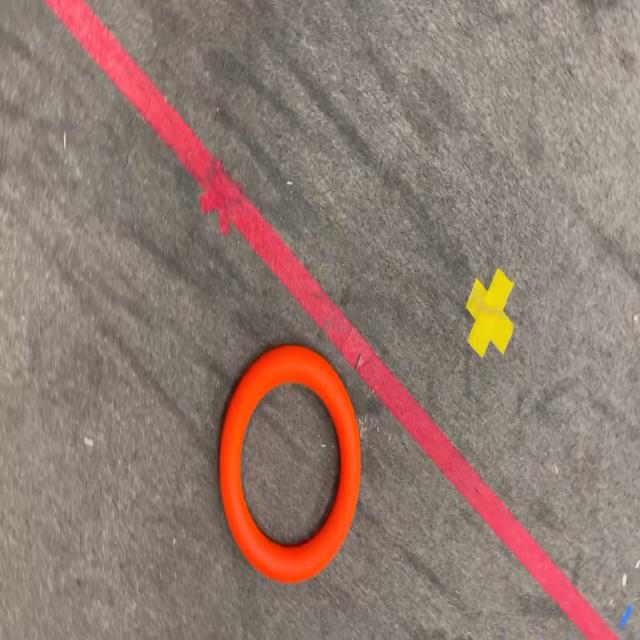note: (220, 346, 361, 584)
